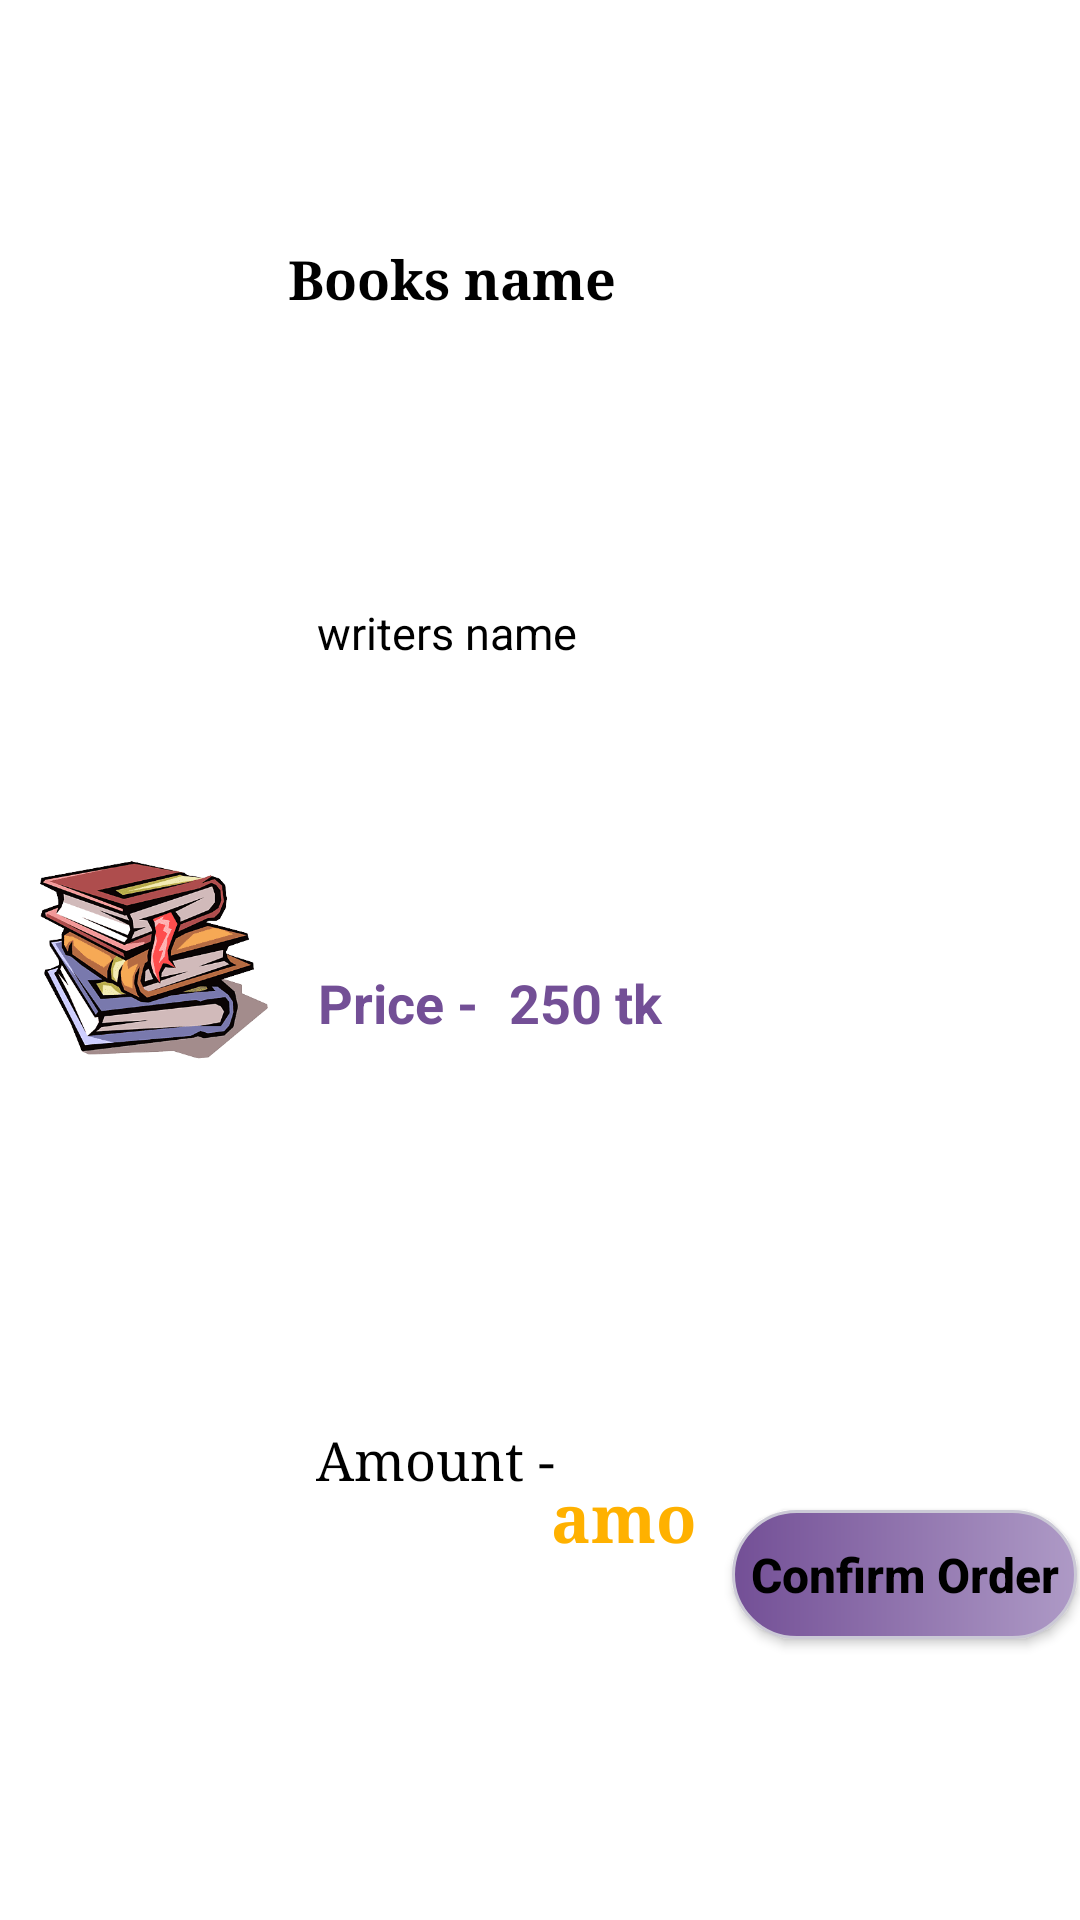

Where to tap for icons on this 1080 x 1920 app screen, as (x,y):
rvbooks: (154,960)
